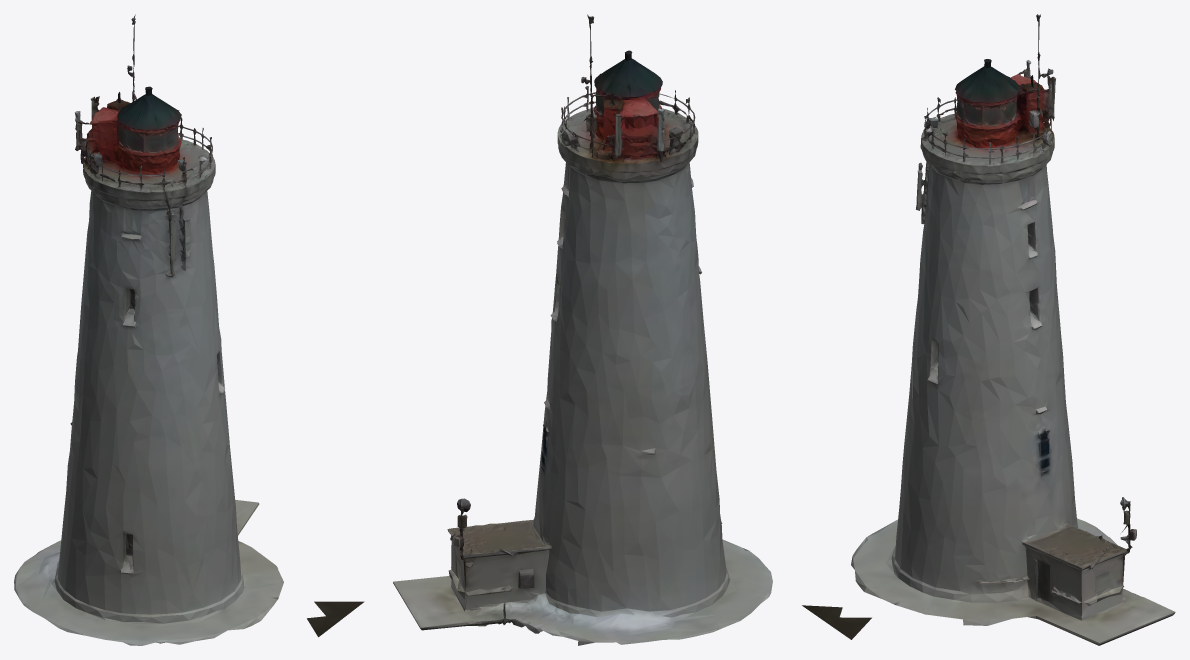
Rendered from lighthouse.glb.
3 renders of one model, left to right at view 1: azimuth 30°, elevation 25°; view 2: azimuth 150°, elevation 25°; view 3: azimuth 270°, elevation 25°, orthographic. The views are drawn at different scales.
Parts seen in each view (by area): view 1: lighthouse; view 2: lighthouse; view 3: lighthouse.
Part boxes in pixels (x1,y1,x2,y2): lighthouse: (14, 14, 364, 645); lighthouse: (393, 14, 772, 645); lighthouse: (802, 14, 1175, 645).
Bounding box in the file's own units: 17623 × 33153 × 20087.
1 material, 1 textured.
